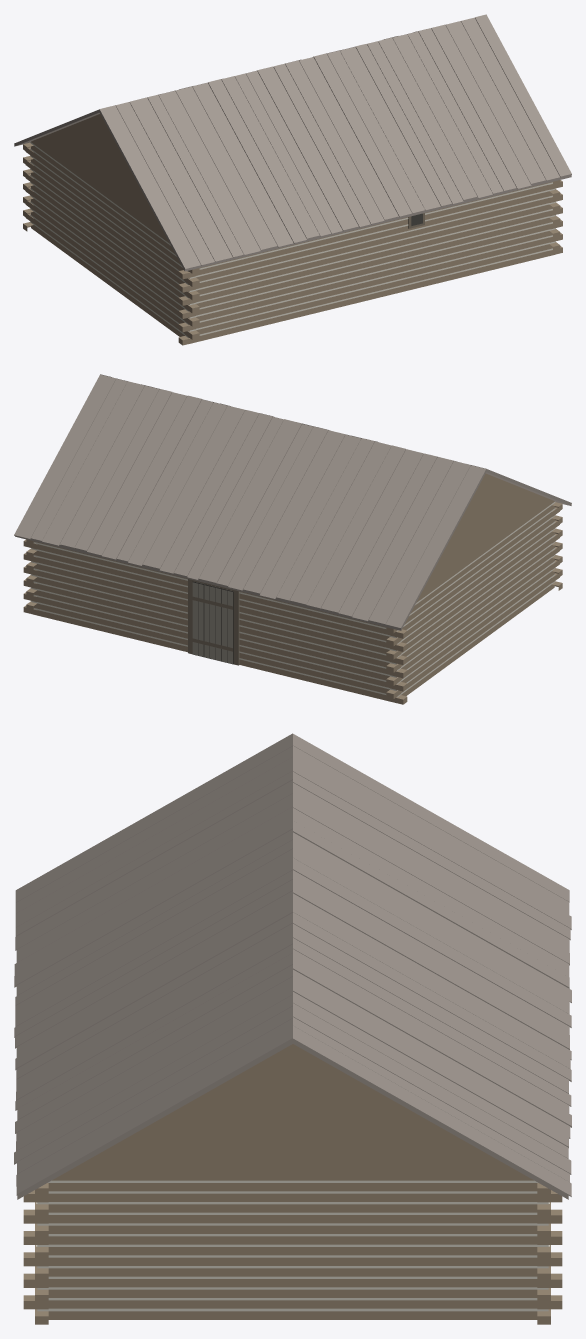
File: clybourn_slaughterhouse__log_1827.glb
3 views of the same model, one above another, from view 1: azimuth 30°, elevation 25°; view 2: azimuth 150°, elevation 25°; view 3: azimuth 270°, elevation 25° (orthographic). The views are drawn at different scales.
Visible parts, largest first — view 1: clybourn_slaughterhouse__log_1827; view 2: clybourn_slaughterhouse__log_1827; view 3: clybourn_slaughterhouse__log_1827.
Boxes of the visible parts, <box> form: clybourn_slaughterhouse__log_1827: <box>14,14,571,345</box>; clybourn_slaughterhouse__log_1827: <box>14,374,571,704</box>; clybourn_slaughterhouse__log_1827: <box>14,733,571,1324</box>.
Bounding box in the file's own units: 12.7 × 5.65 × 9.82.
